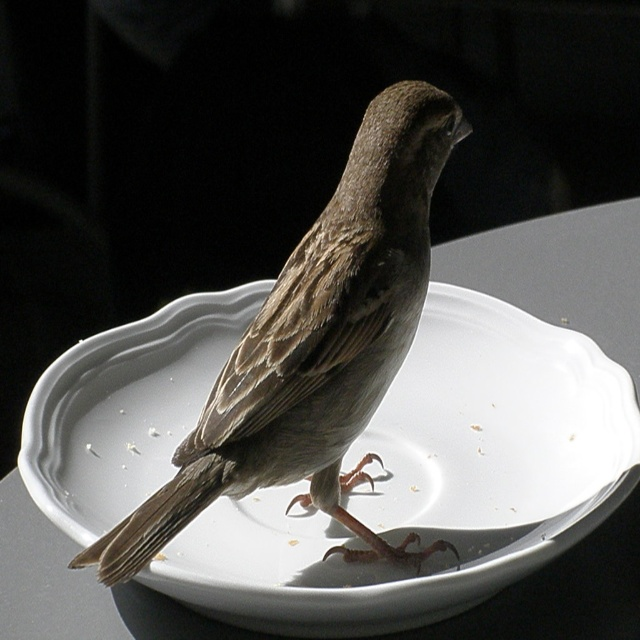Sparrow: (66, 77, 476, 592)
